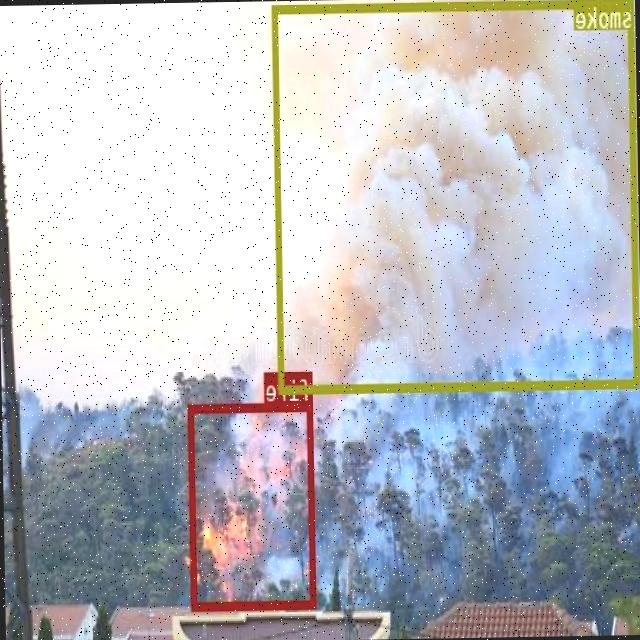fire: (188, 401, 317, 608)
smoke: (273, 0, 640, 391)
